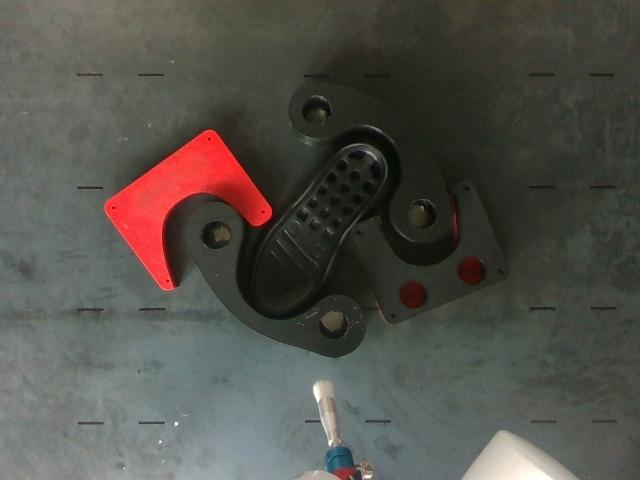shoes: (253, 144, 387, 313)
